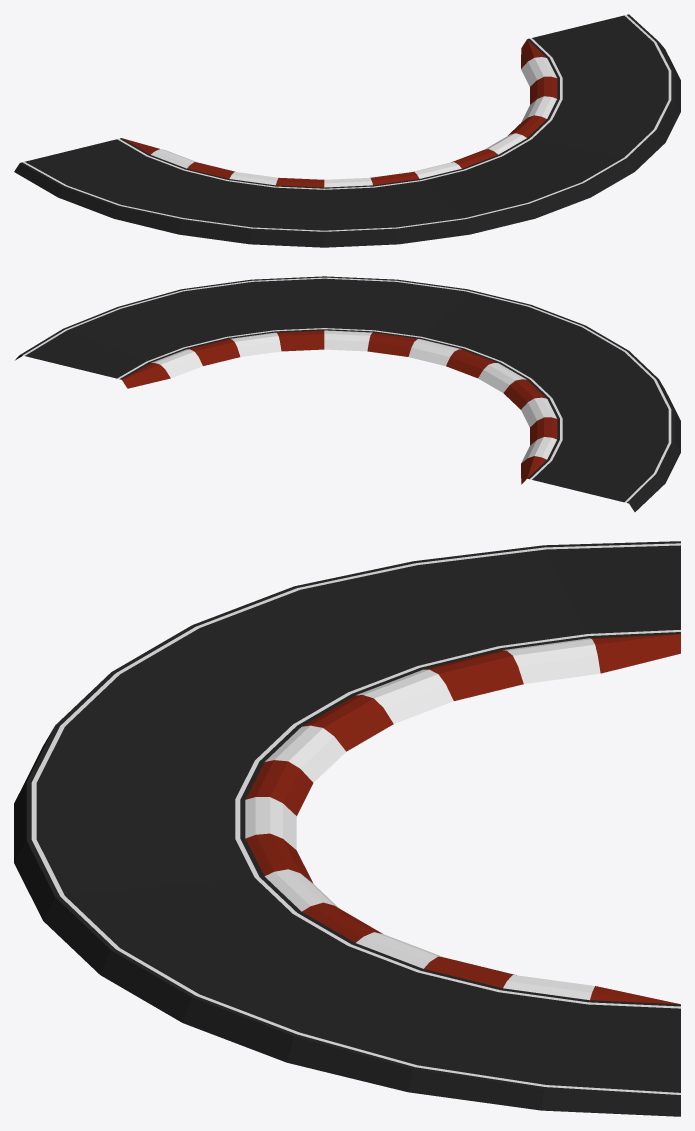
File: AsphaltTurn180.fbx
3 views of the same model, one above another, from view 1: azimuth 30°, elevation 25°; view 2: azimuth 150°, elevation 25°; view 3: azimuth 270°, elevation 25° (orthographic). The views are drawn at different scales.
Parts seen in each view (by area): view 1: 180Turn.006; view 2: 180Turn.006; view 3: 180Turn.006.
Boxes of the visible parts, x1,y1,x2,y2 form: 180Turn.006: [14, 14, 680, 247]; 180Turn.006: [15, 276, 680, 511]; 180Turn.006: [14, 541, 680, 1116].
Bounding box in the file's own units: 6120 × 111 × 3043.
1 material, 1 textured.
